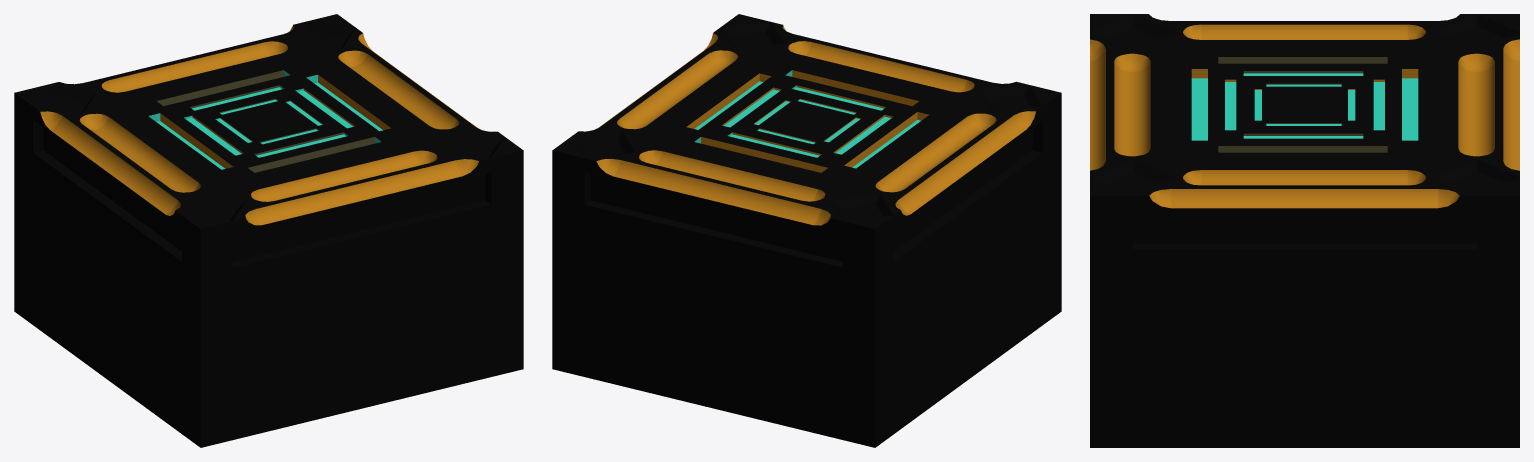
Rendered from stone_foundation_4x4.fbx.
The picture shows the model from 3 angles, left to right: view 1: azimuth 30°, elevation 25°; view 2: azimuth 150°, elevation 25°; view 3: azimuth 270°, elevation 25°; orthographic projection. The views are drawn at different scales.
Parts seen in each view (by area): view 1: stone_foundation_4x4; view 2: stone_foundation_4x4; view 3: stone_foundation_4x4.
Boxes of the visible parts, left/top/right/bottom form: stone_foundation_4x4: left=14, top=14, right=523, bottom=447; stone_foundation_4x4: left=552, top=14, right=1061, bottom=447; stone_foundation_4x4: left=1090, top=14, right=1519, bottom=447.
Bounding box in the file's own units: 18.2 × 11.79 × 18.2.
